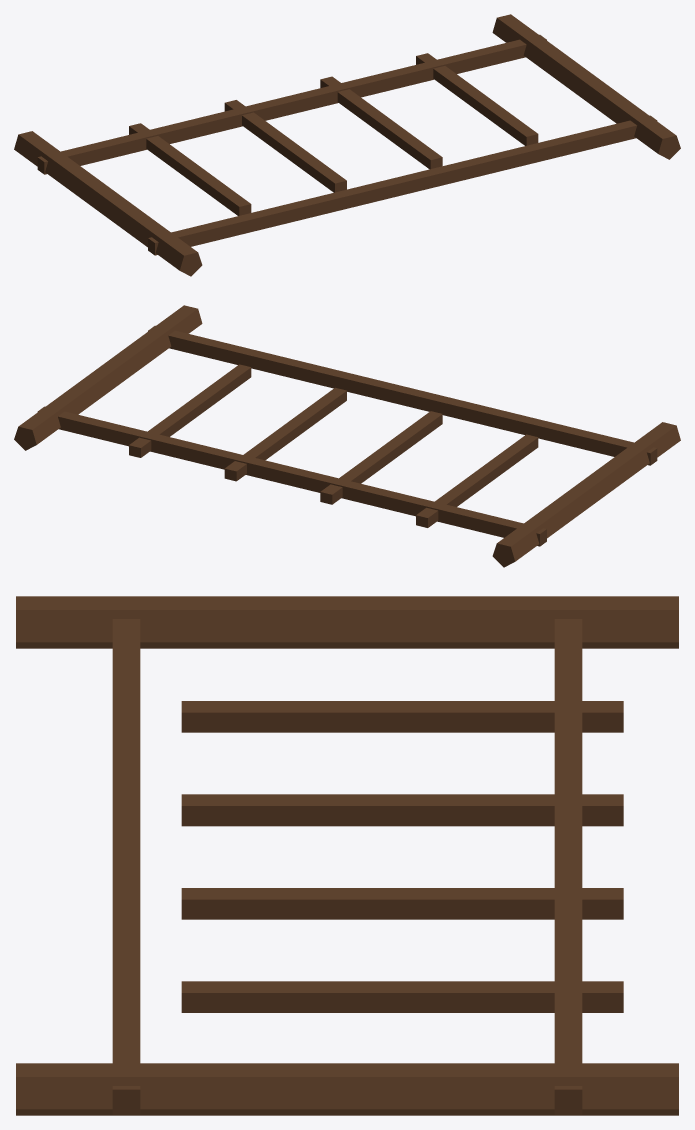
Rendered from fence_section.obj.
3 renders of one model, top to bottom at view 1: azimuth 30°, elevation 25°; view 2: azimuth 150°, elevation 25°; view 3: azimuth 270°, elevation 25°, orthographic. The views are drawn at different scales.
Visible parts, largest first — view 1: fence_section; view 2: fence_section; view 3: fence_section.
Boxes of the visible parts, x1,y1,x2,y2 form: fence_section: (14,14,680,276); fence_section: (14,305,680,567); fence_section: (16,596,678,1115).
Bounding box in the file's own units: 1.05 × 0.0452 × 0.6.
